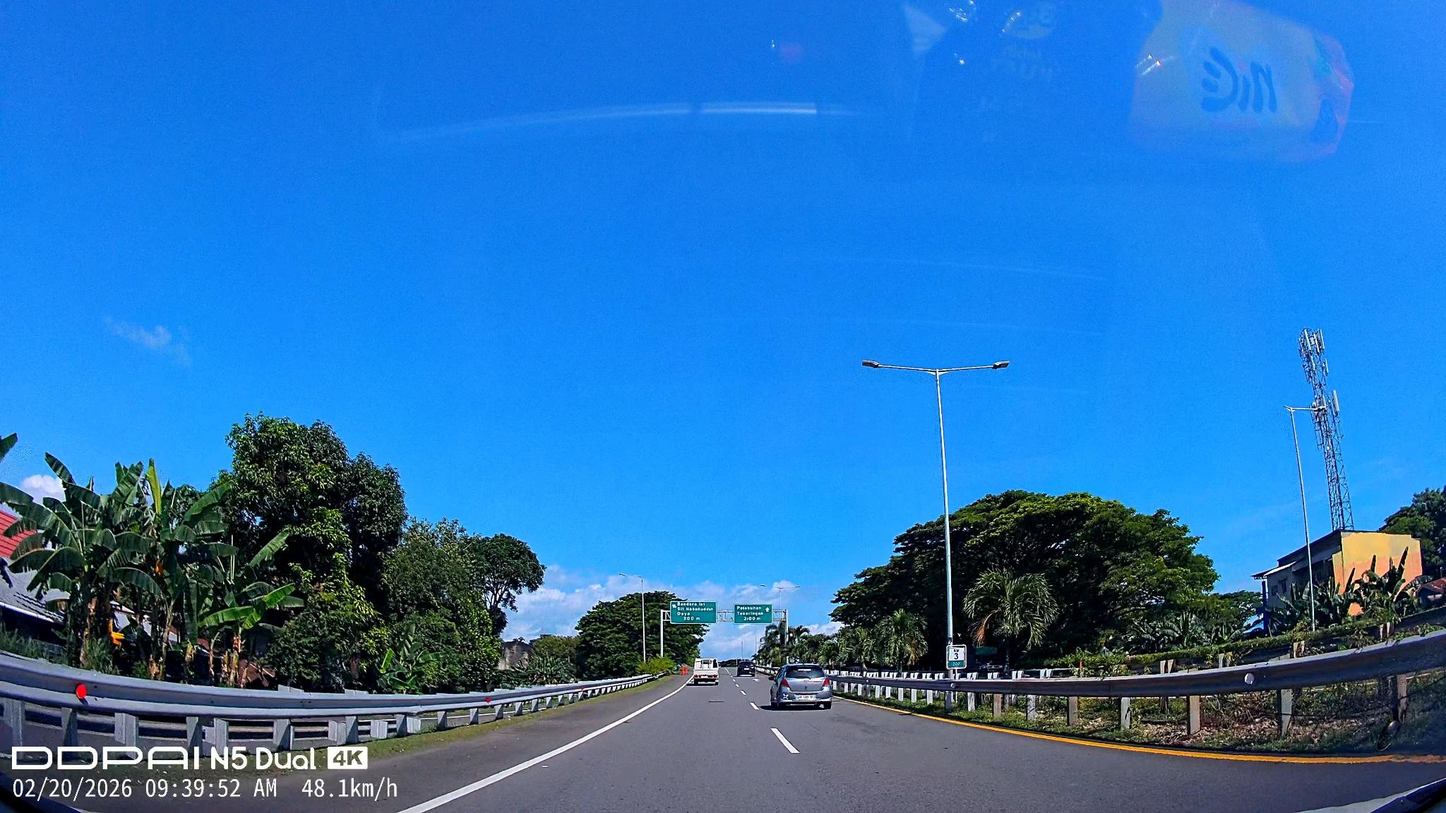rambu_teks: (670, 601, 717, 624), (733, 603, 773, 624)
